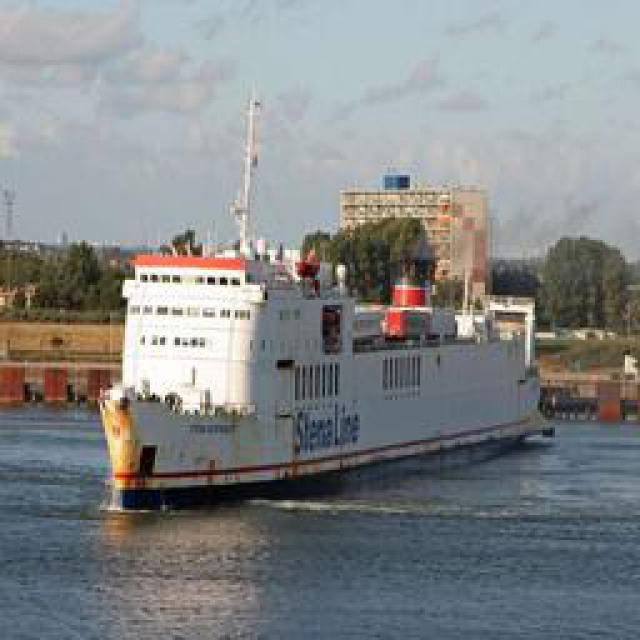Ship: (94, 137, 549, 505)
